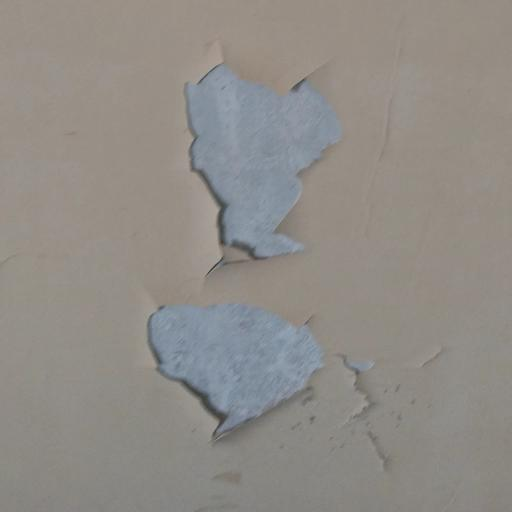peeling: (133, 287, 447, 478), (164, 35, 368, 282)
